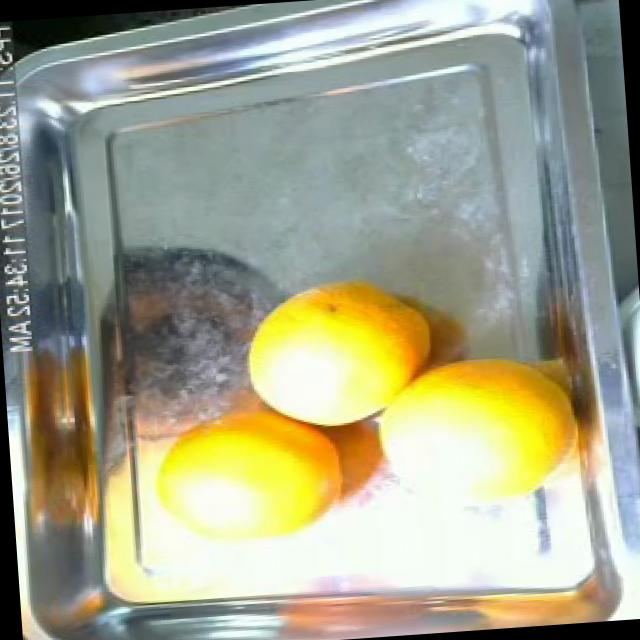Fruit: (227, 263, 434, 440)
